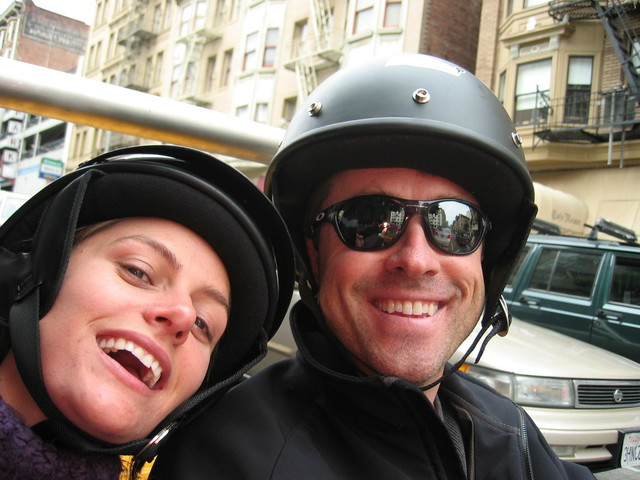helmet: (259, 55, 551, 226)
